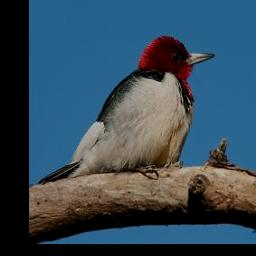Woodpecker: (37, 35, 215, 184)
